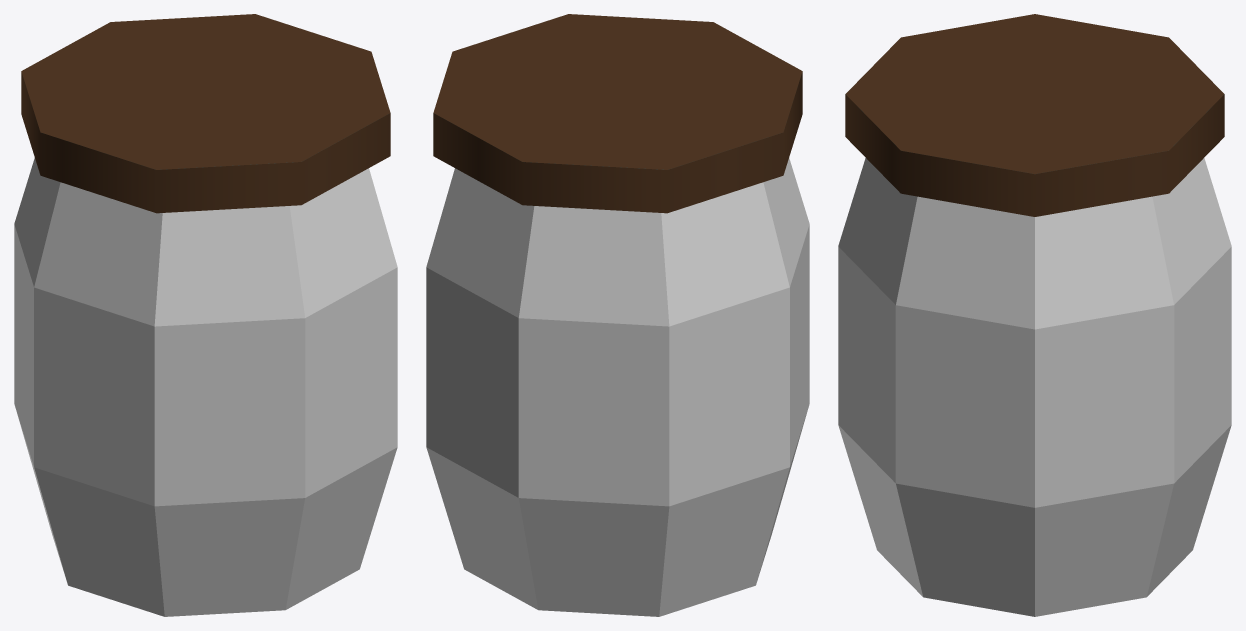
Rendered from Med.fbx.
3 views of the same model, side by side, from view 1: azimuth 30°, elevation 25°; view 2: azimuth 150°, elevation 25°; view 3: azimuth 270°, elevation 25° (orthographic).
Visible parts, largest first — view 1: Банка, Крышка и мёд; view 2: Банка, Крышка и мёд; view 3: Банка, Крышка и мёд.
Part boxes in pixels (bbox=[...]): Банка: bbox=[14, 158, 397, 616]; Крышка и мёд: bbox=[21, 14, 390, 213]; Банка: bbox=[426, 158, 809, 616]; Крышка и мёд: bbox=[433, 14, 802, 213]; Банка: bbox=[838, 158, 1231, 616]; Крышка и мёд: bbox=[845, 14, 1224, 216].
Size of the model in its own units: 0.2492 by 0.3187 by 0.2492.
